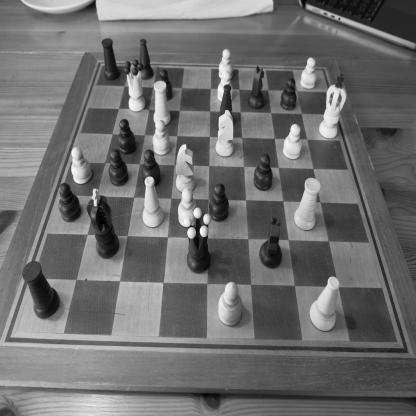black-bishop: (217, 84, 235, 127), (138, 38, 154, 80)
black-king: (86, 188, 120, 260)
black-knight: (259, 216, 283, 269), (247, 65, 265, 110)
black-pawn: (58, 182, 81, 223), (209, 182, 230, 222), (107, 149, 128, 187), (141, 148, 161, 186), (253, 153, 273, 191), (118, 118, 136, 154), (279, 78, 297, 111), (159, 68, 173, 102)
black-queen: (183, 207, 212, 274)
black-rook: (22, 259, 60, 320), (101, 38, 120, 80)
white-bishop: (309, 276, 340, 332), (142, 176, 164, 228)
white-king: (318, 74, 348, 139)
white-knight: (175, 143, 196, 193), (215, 109, 235, 158)
white-pawn: (218, 280, 243, 327), (71, 146, 92, 185), (177, 188, 198, 227), (282, 124, 302, 160), (152, 119, 171, 156), (300, 57, 317, 89), (217, 70, 233, 102), (218, 48, 233, 80)
white-queen: (123, 59, 147, 112)
white-rook: (294, 177, 322, 231), (153, 80, 171, 126)
